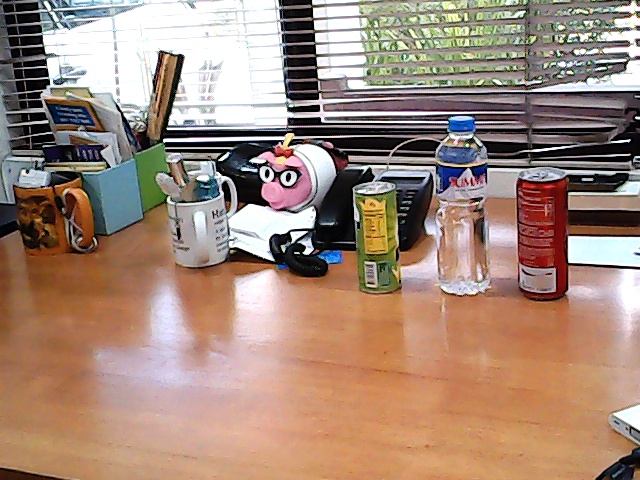Cola: (517, 171, 568, 298)
Pine Juice: (359, 187, 396, 293)
Summit Water: (439, 119, 488, 297)
